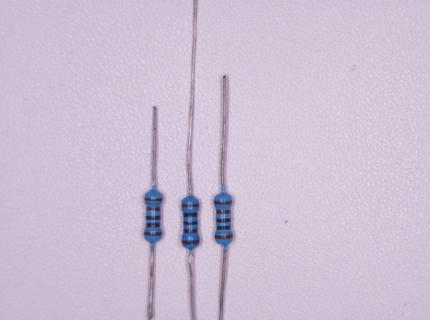Black band: (216, 225, 231, 230), (146, 215, 160, 220), (147, 222, 160, 227), (183, 213, 198, 217), (217, 218, 231, 222), (184, 221, 198, 225)
Brown band: (143, 231, 163, 236), (182, 240, 200, 245), (214, 200, 233, 204), (215, 235, 233, 239), (146, 206, 160, 211), (216, 209, 230, 214), (145, 197, 162, 201), (184, 229, 198, 233), (182, 204, 199, 207)
